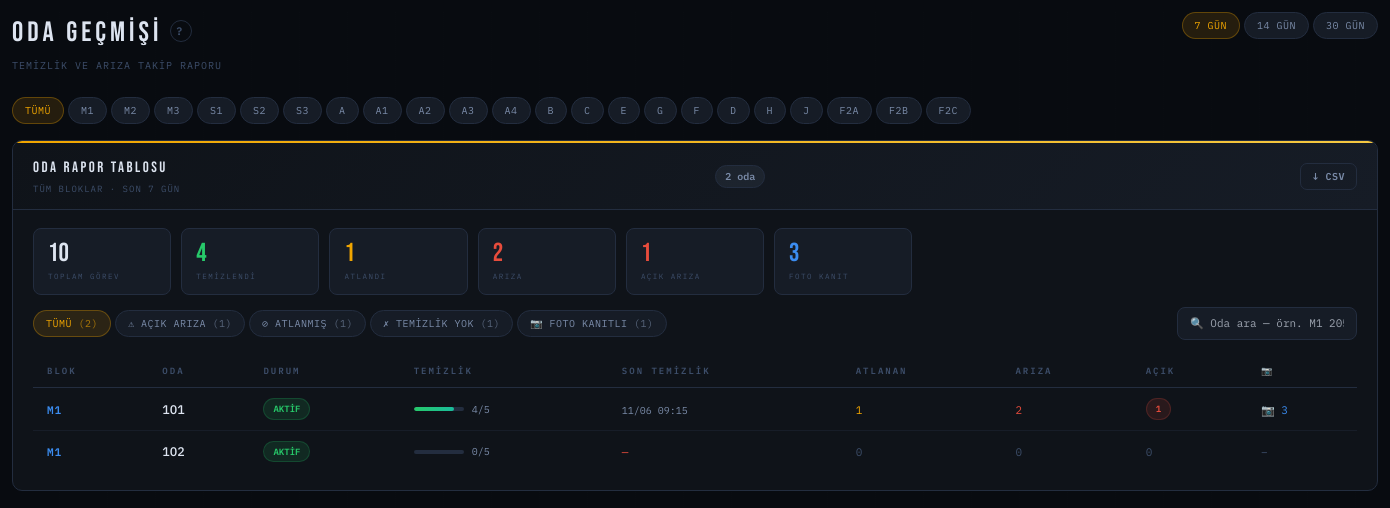
Scenario: room-history/RoomHistoryPage smoke › TEMİZLİK YOK filtresi temizlenmemiş odayı ayıklar
Step 1. Click the button "✗ TEMİZLİK YOK (1)" → (442, 324), box 370,310 -> 513,337
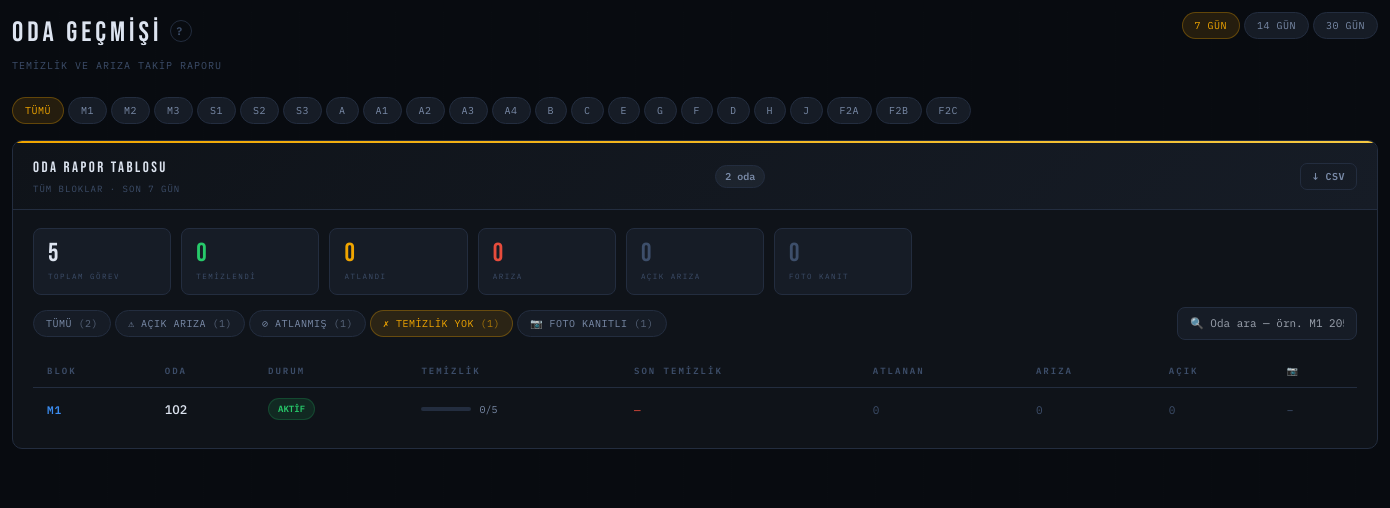
Check: the text "102" is shown, box 151,388 -> 254,430
Check: the text "📷 3" is gone
